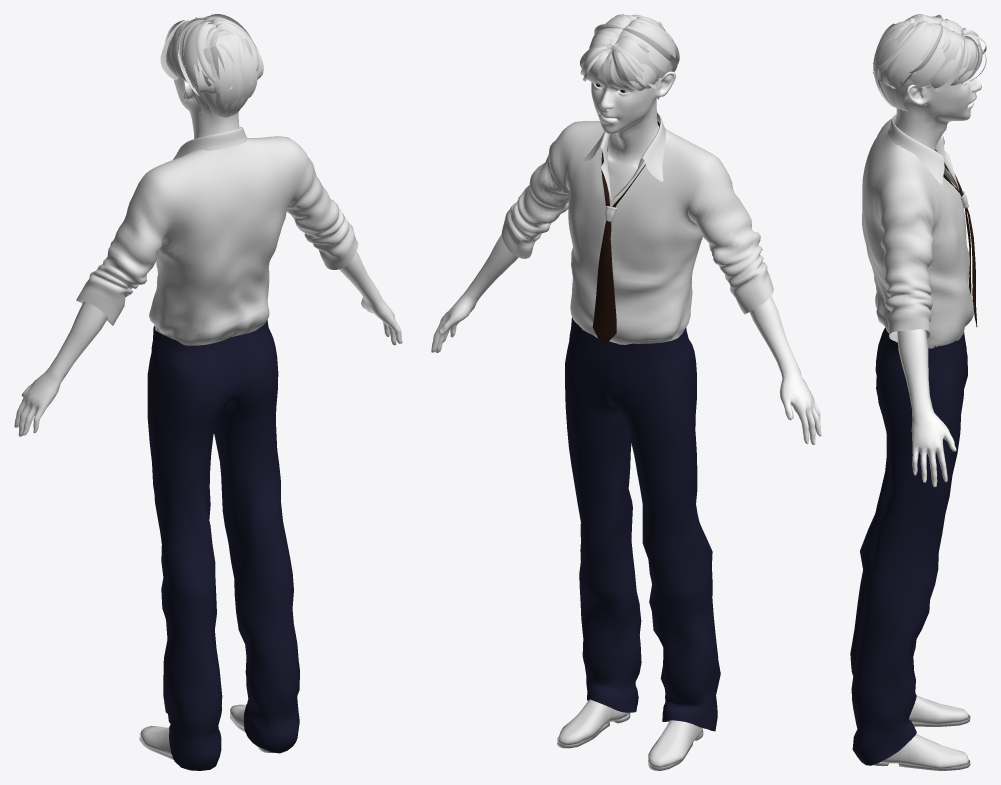
File: TewCharacter.fbx
3 renders of one model, left to right at view 1: azimuth 30°, elevation 25°; view 2: azimuth 150°, elevation 25°; view 3: azimuth 270°, elevation 25°, orthographic.
Parts seen in each view (by area): view 1: PantsLow, ShirtLow, HeadLow, NurbsPath.017, NurbsPath.001, Plane.010LO.001, ShirtLow.001; view 2: PantsLow, ShirtLow, HeadLow, NurbsPath.017, Plane.010LO.001, Plane.004, ShirtLow.001, NurbsPath.001; view 3: PantsLow, ShirtLow, HeadLow, NurbsPath.017, Plane.010LO.001, ShirtLow.001, NurbsPath.001, Plane.004.
Part boxes in pixels (x1,y1,x2,y2): PantsLow: [147, 319, 299, 770]; ShirtLow: [76, 136, 358, 345]; HeadLow: [14, 77, 402, 436]; NurbsPath.017: [160, 14, 263, 117]; NurbsPath.001: [168, 15, 258, 116]; Plane.010LO.001: [139, 704, 274, 770]; ShirtLow.001: [173, 127, 247, 159]; PantsLow: [565, 317, 720, 731]; ShirtLow: [501, 121, 773, 344]; HeadLow: [431, 62, 821, 444]; NurbsPath.017: [580, 14, 679, 99]; Plane.010LO.001: [557, 699, 703, 770]; Plane.004: [592, 121, 659, 345]; ShirtLow.001: [582, 112, 666, 201]; NurbsPath.001: [585, 14, 676, 91]; PantsLow: [850, 327, 967, 765]; ShirtLow: [862, 119, 974, 348]; HeadLow: [895, 75, 981, 487]; NurbsPath.017: [872, 14, 986, 111]; Plane.010LO.001: [873, 695, 970, 770]; ShirtLow.001: [888, 114, 959, 189]; NurbsPath.001: [873, 16, 979, 106]; Plane.004: [935, 149, 977, 327].
Bounding box in the file's own units: 98.85 × 179 × 30.57.
